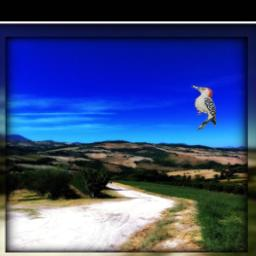Woodpecker: (191, 86, 217, 131)
